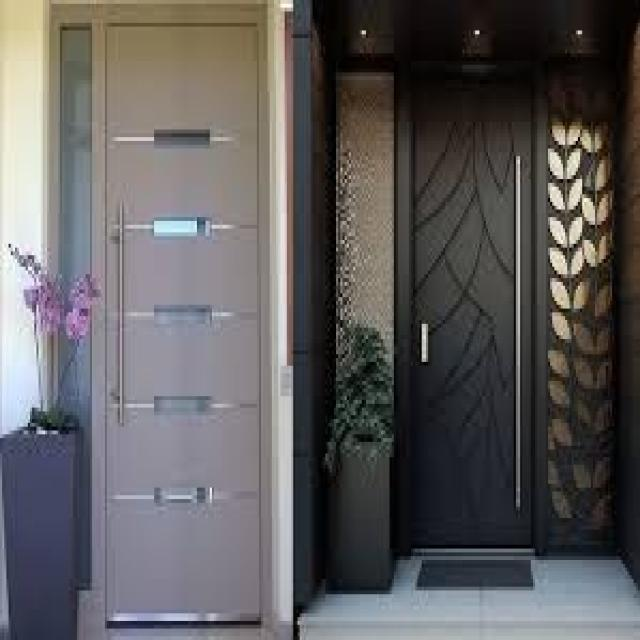door: (102, 17, 264, 627)
